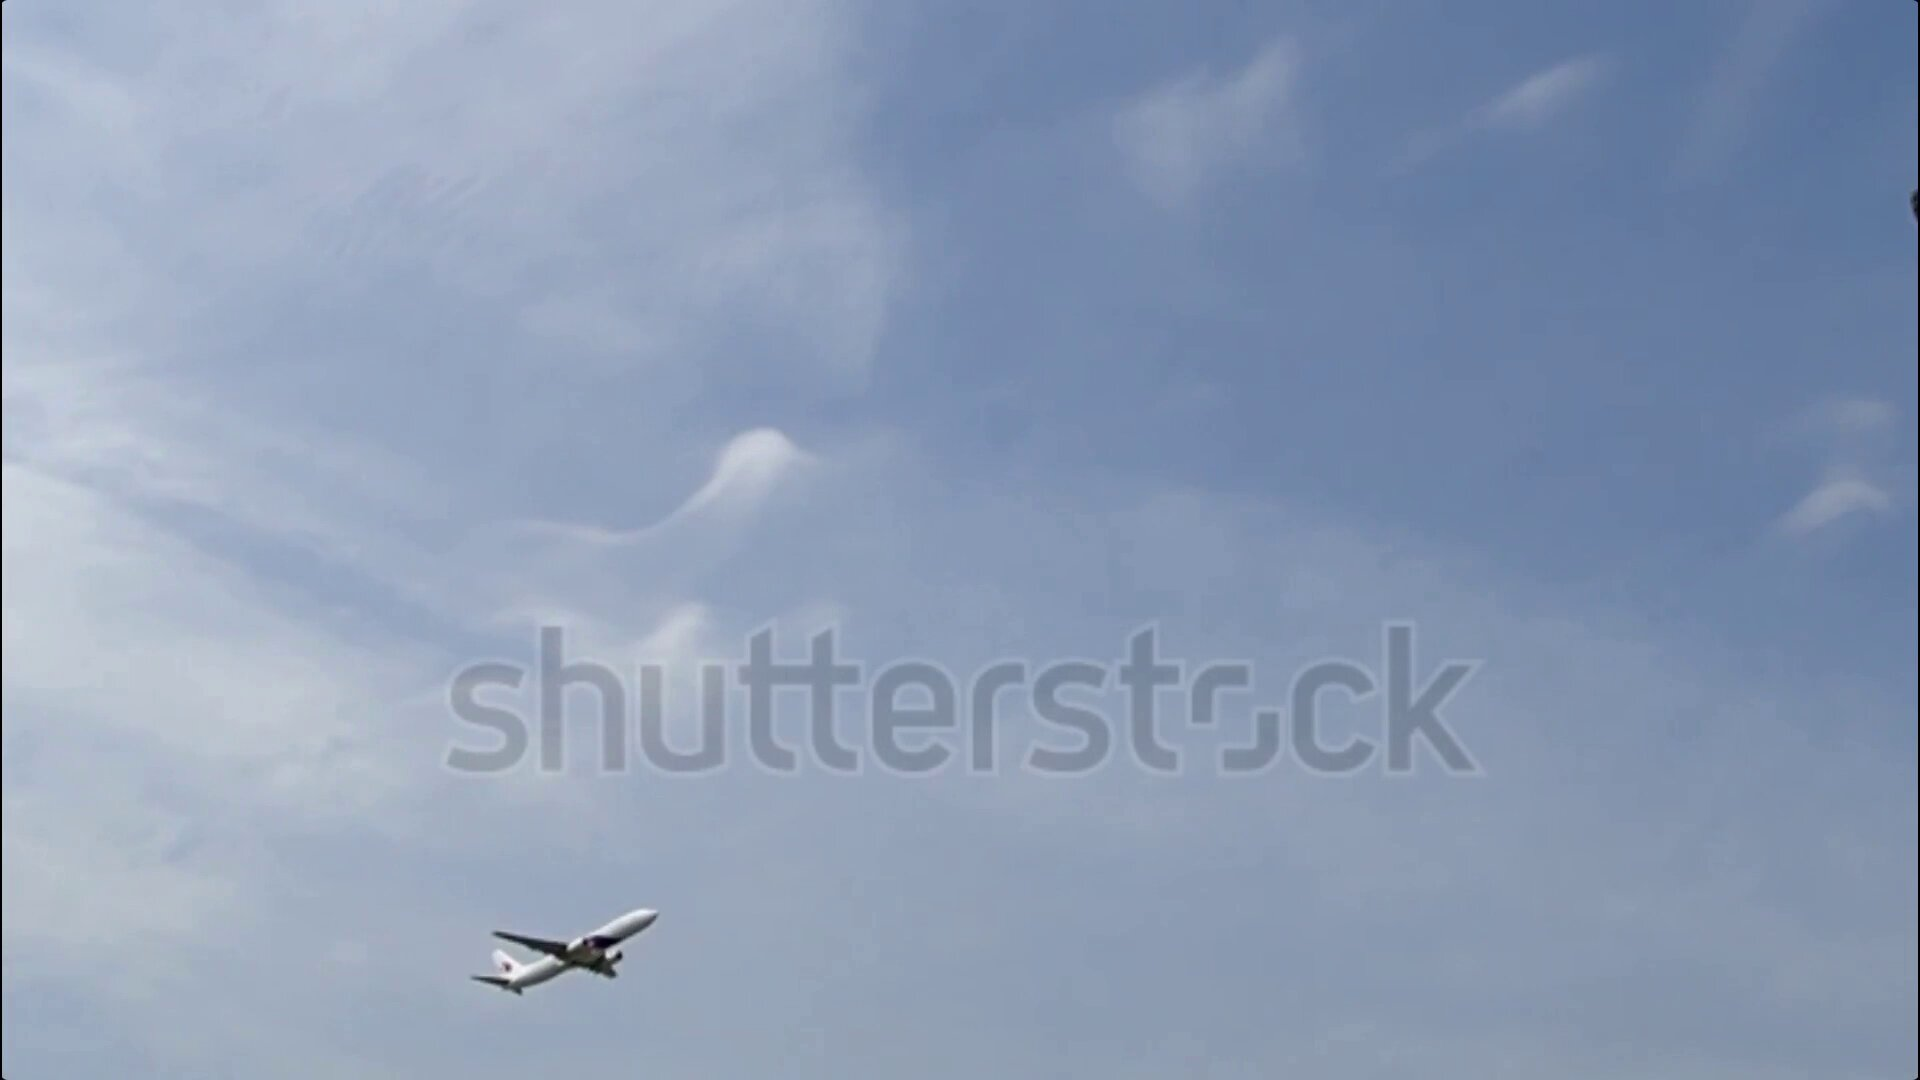airplane: (467, 906, 662, 998)
